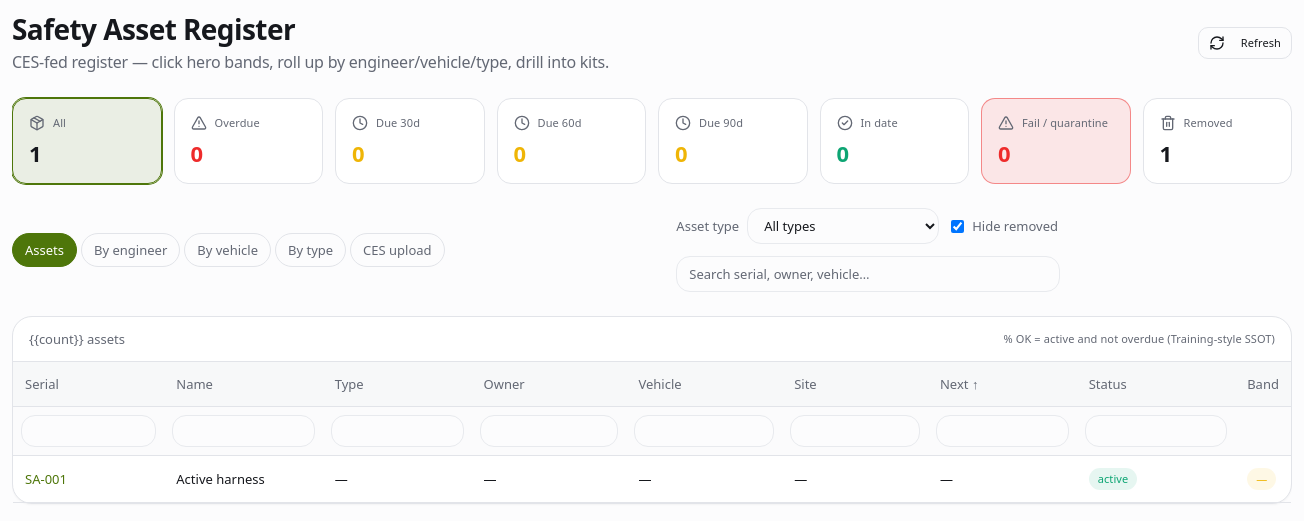
Test case: SafetyAssetRegister Wave 2 board › shows removed assets when the Removed band is selected
This screenshot has width=1304, height=521.
Expected: the table with test id "safety-assets-table" is shown, [13,362,1291,503]
Expected: the checkbox with test id "safety-assets-hide-removed" is checked, [951,220,964,232]
Step 1. Click the tab with test id "safety-assets-kpi-decommissioned" → (1217, 141), box [1142,98,1292,184]
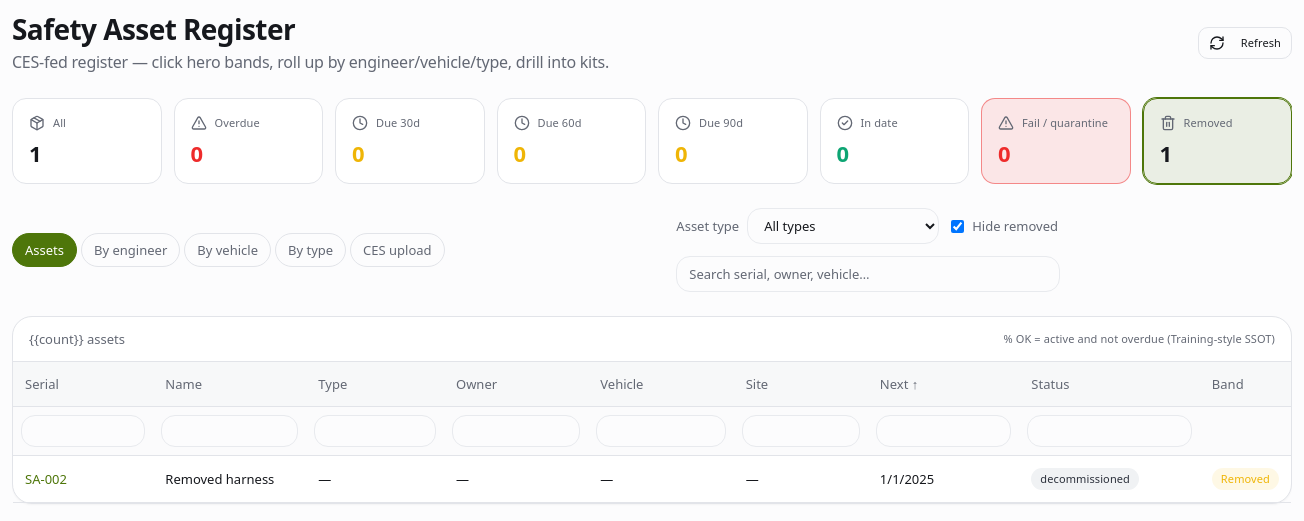
Expected: the tab with test id "safety-assets-kpi-total" shows "1", [12,98,162,184]
Expected: the row with test id "safety-asset-row-56" is shown, [13,456,1291,502]
Expected: the row with test id "safety-asset-row-55" is gone
